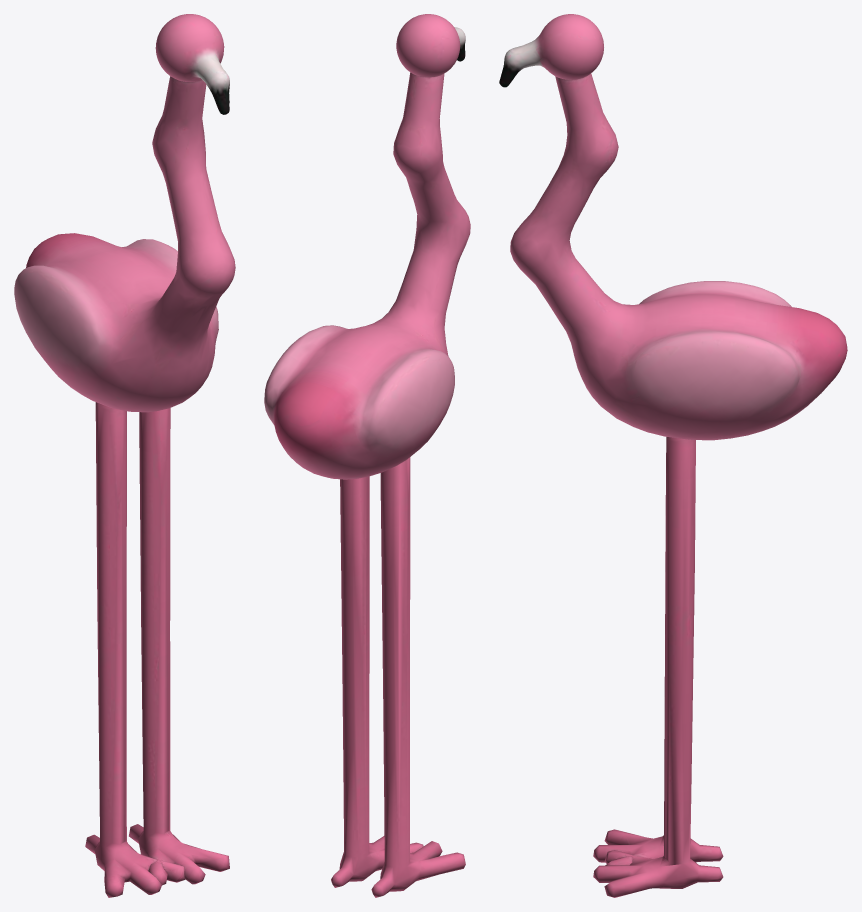
Rendered from animal_flamingo.glb.
The picture shows the model from 3 angles, left to right: view 1: azimuth 30°, elevation 25°; view 2: azimuth 150°, elevation 25°; view 3: azimuth 270°, elevation 25°; orthographic projection. The views are drawn at different scales.
Parts seen in each view (by area): view 1: animal_flamingo, leg0, leg1, head; view 2: animal_flamingo, leg0, leg1, head; view 3: animal_flamingo, leg1, head, leg0.
Part boxes in pixels (x1,y1,x2,y2): animal_flamingo: (14, 76, 235, 412); leg0: (85, 402, 185, 897); leg1: (129, 408, 229, 885); head: (155, 14, 229, 114); animal_flamingo: (264, 72, 470, 479); leg0: (371, 457, 465, 897); leg1: (331, 476, 423, 887); head: (396, 14, 465, 77); animal_flamingo: (510, 73, 847, 440); leg1: (593, 437, 723, 897); head: (499, 14, 603, 87); leg0: (593, 453, 723, 865).
Bounding box in the file's own units: 0.152 × 0.8605 × 0.3151.
1 material, 1 textured.
